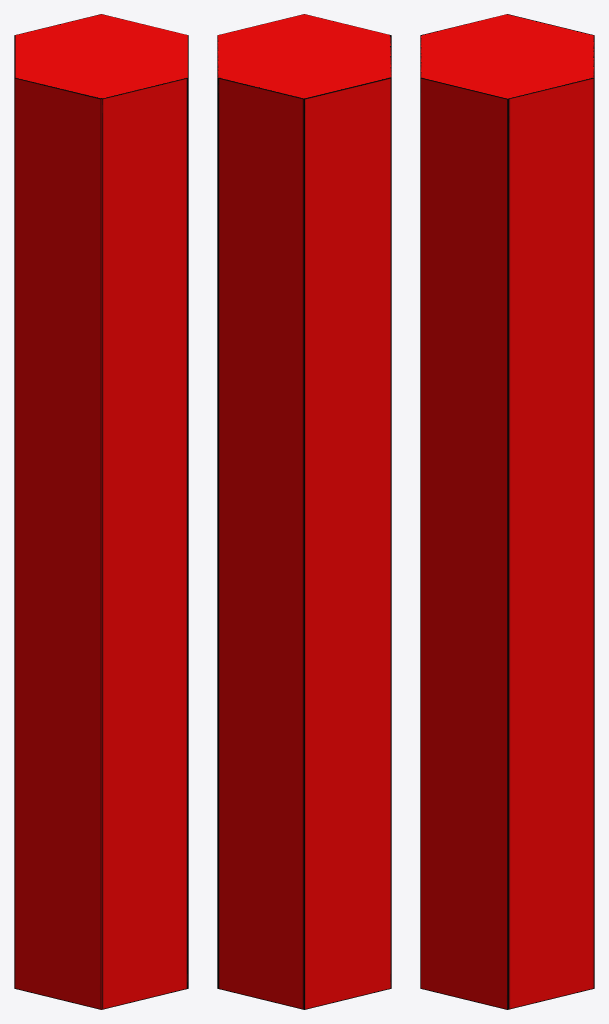
File: world2.obj
3 renders of one model, left to right at view 1: azimuth 30°, elevation 25°; view 2: azimuth 150°, elevation 25°; view 3: azimuth 270°, elevation 25°, orthographic.
Parts seen in each view (by area): view 1: 円; view 2: 円; view 3: 円.
Part boxes in pixels (box(x1,y1,x2,y2)): 円: box(14, 14, 188, 1009); 円: box(217, 14, 391, 1009); 円: box(420, 14, 594, 1009).
Bounding box in the file's own units: 2 × 10 × 1.73.
1 material, 1 textured.
